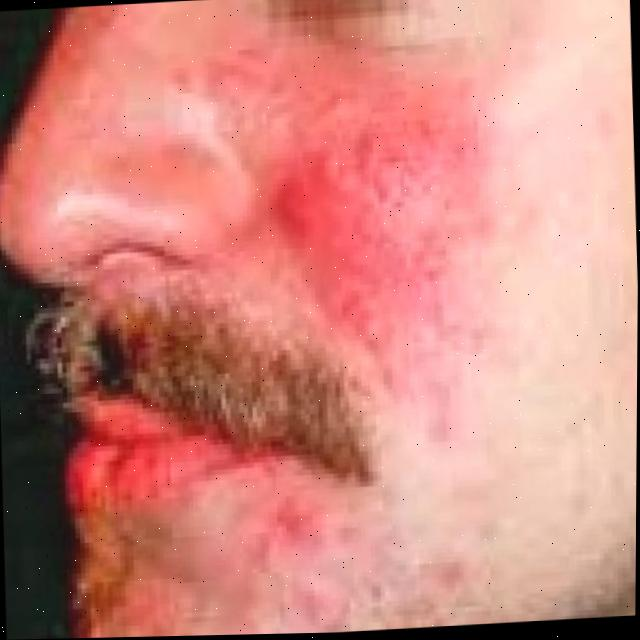Rosacea: (279, 99, 493, 386)
